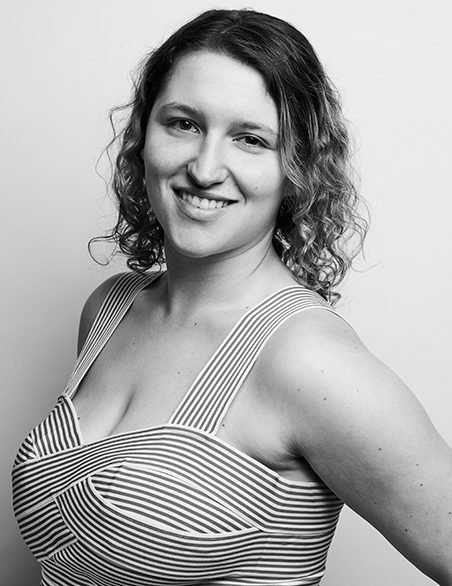person: (7, 6, 452, 586)
